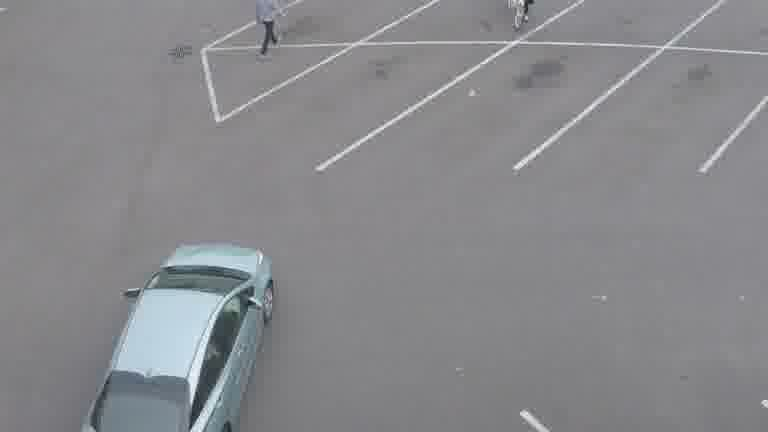car: (502, 0, 535, 32)
cycle: (80, 244, 278, 432), (252, 0, 289, 62)
